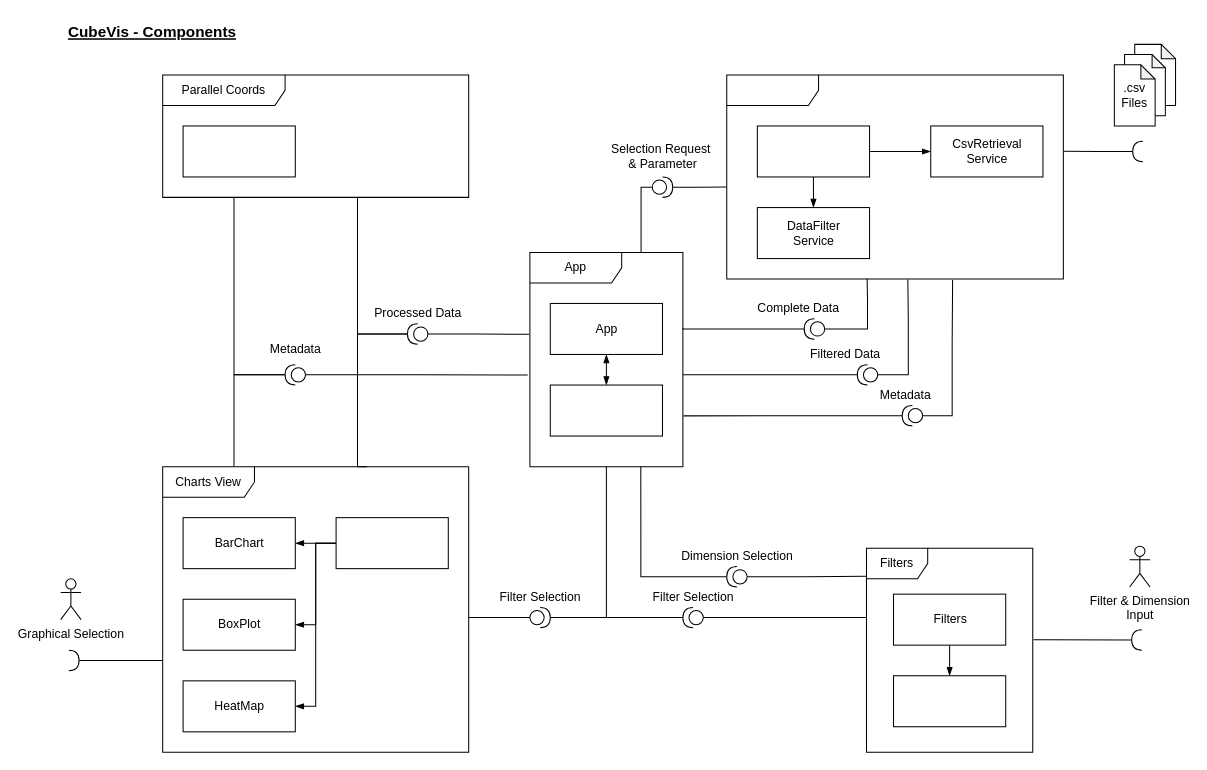
The diagram is 1207 pixels wide and 770 high, and some of its shapes have lost their labels. The shapes that lost their labels are listed below. From the top down, each one's box as (x1, y1, x2, y2) in pixels, then its label:
(182, 125, 295, 177): ParallelCoords
(756, 125, 870, 177): DataProcessing Service
(726, 74, 1063, 279): Data Service
(549, 384, 662, 436): AppState
(335, 517, 448, 569): ChartsView
(892, 675, 1006, 727): FilterStep
